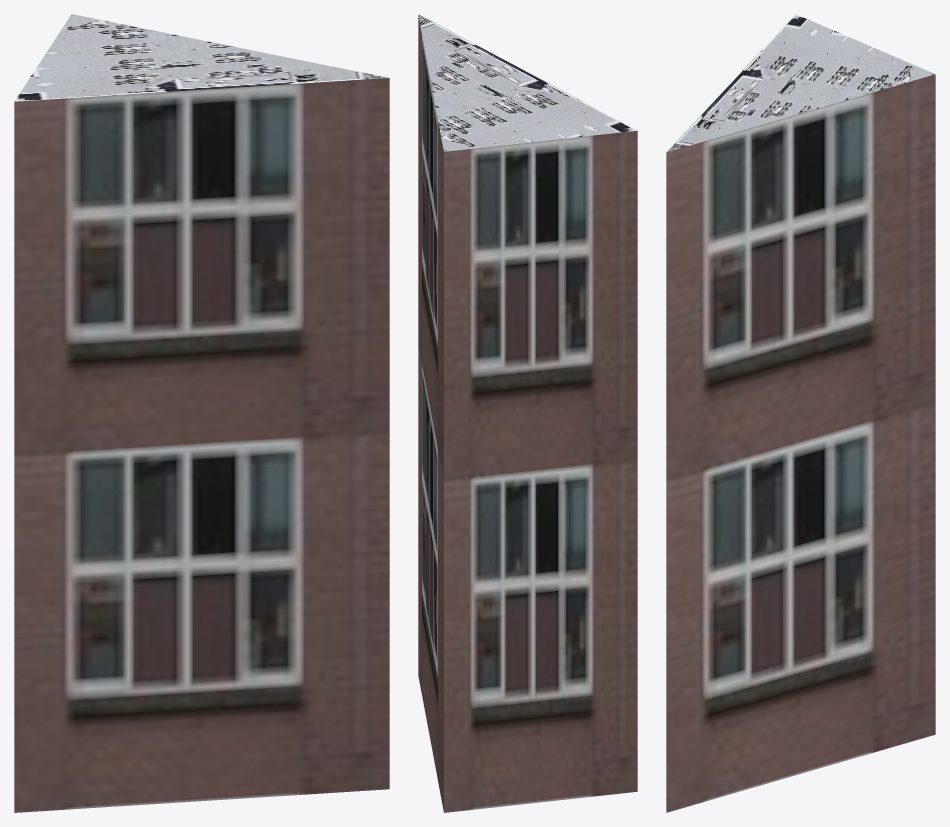
File: ResTex__241.fbx
The picture shows the model from 3 angles, left to right: view 1: azimuth 30°, elevation 25°; view 2: azimuth 150°, elevation 25°; view 3: azimuth 270°, elevation 25°; orthographic projection. The views are drawn at different scales.
Visible parts, largest first — view 1: CityEngineMaterial_12_m, CityEngineMaterial_8_m; view 2: CityEngineMaterial_12_m, CityEngineMaterial_8_m; view 3: CityEngineMaterial_12_m, CityEngineMaterial_8_m.
Part boxes in pixels (left/top/right/bottom): CityEngineMaterial_12_m: left=14, top=78, right=389, bottom=812; CityEngineMaterial_8_m: left=14, top=14, right=388, bottom=101; CityEngineMaterial_12_m: left=418, top=16, right=637, bottom=812; CityEngineMaterial_8_m: left=418, top=14, right=636, bottom=151; CityEngineMaterial_12_m: left=666, top=74, right=935, bottom=812; CityEngineMaterial_8_m: left=666, top=14, right=935, bottom=152.
Size of the model in its own units: 2.7 by 6 by 2.22.
Materials: 2 (2 with a texture image).
